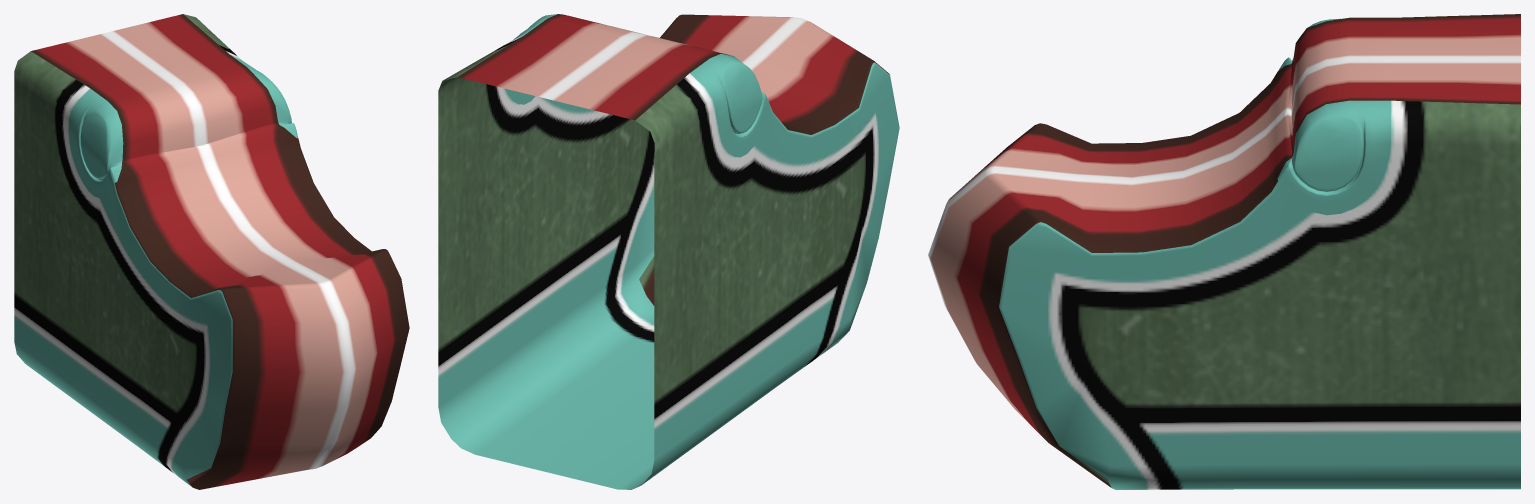
File: SM_Beam03W.fbx
3 views of the same model, side by side, from view 1: azimuth 30°, elevation 25°; view 2: azimuth 150°, elevation 25°; view 3: azimuth 270°, elevation 25° (orthographic). The views are drawn at different scales.
Parts seen in each view (by area): view 1: SM_Beam03W; view 2: SM_Beam03W; view 3: SM_Beam03W.
Part boxes in pixels (<box>): SM_Beam03W: <box>14,14,409,489</box>; SM_Beam03W: <box>438,14,899,489</box>; SM_Beam03W: <box>928,14,1520,489</box>.
Size of the model in its own units: 19.33 by 43.95 by 31.87.
Materials: 1 (1 with a texture image).
